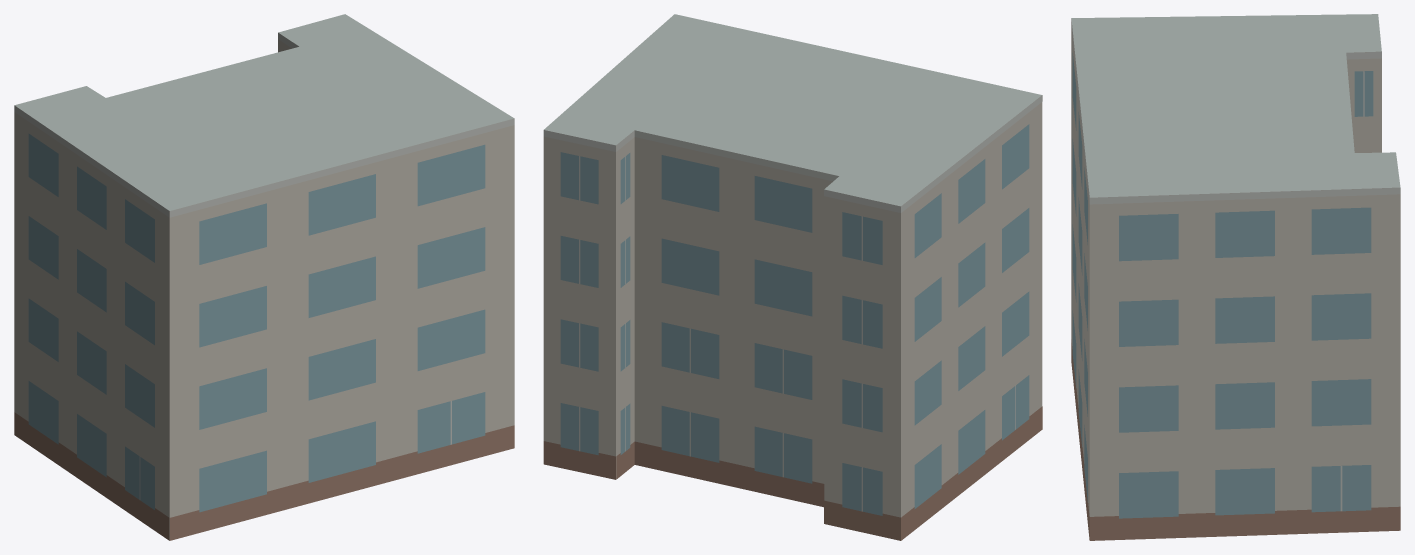
Rendered from survey-upis-32946783.glb.
3 views of the same model, side by side, from view 1: azimuth 30°, elevation 25°; view 2: azimuth 150°, elevation 25°; view 3: azimuth 270°, elevation 25° (orthographic). The views are drawn at different scales.
Parts seen in each view (by area): view 1: survey-upis-32946783.tmp; view 2: survey-upis-32946783.tmp; view 3: survey-upis-32946783.tmp.
Part boxes in pixels (bbox=[...]): survey-upis-32946783.tmp: bbox=[14, 14, 514, 540]; survey-upis-32946783.tmp: bbox=[543, 14, 1042, 540]; survey-upis-32946783.tmp: bbox=[1071, 14, 1400, 540].
Bounding box in the file's own units: 14.02 × 12.2 × 10.61.
